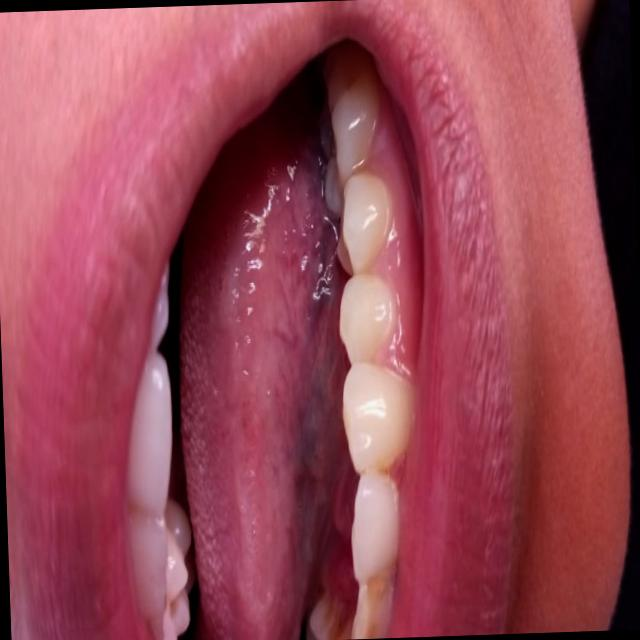No Cancer: (205, 340, 301, 580)
